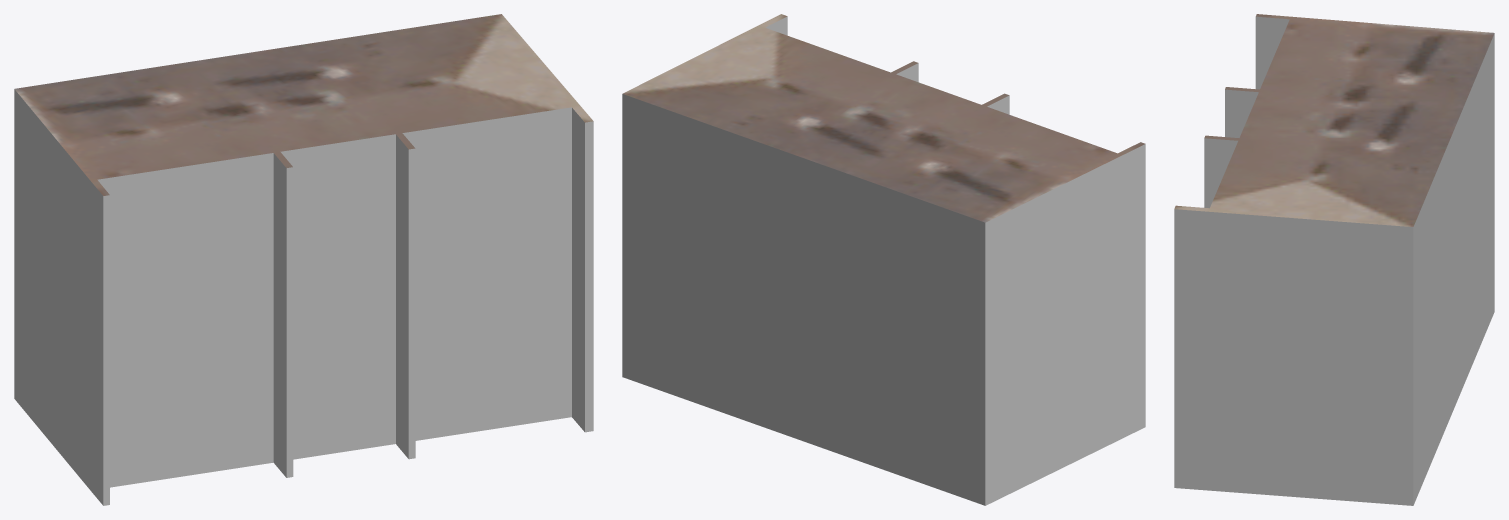
Rendered from DEBW_0010007TxhC.gltf.
3 views of the same model, side by side, from view 1: azimuth 30°, elevation 25°; view 2: azimuth 150°, elevation 25°; view 3: azimuth 270°, elevation 25° (orthographic). The views are drawn at different scales.
Parts seen in each view (by area): view 1: Z_UP; view 2: Z_UP; view 3: Z_UP.
Part boxes in pixels (box(x1,y1,x2,y2)): Z_UP: box(14, 14, 593, 505); Z_UP: box(622, 14, 1145, 505); Z_UP: box(1174, 14, 1494, 505).
Bounding box in the file's own units: 25.01 × 15.25 × 15.89.
Materials: 2 (1 with a texture image).
